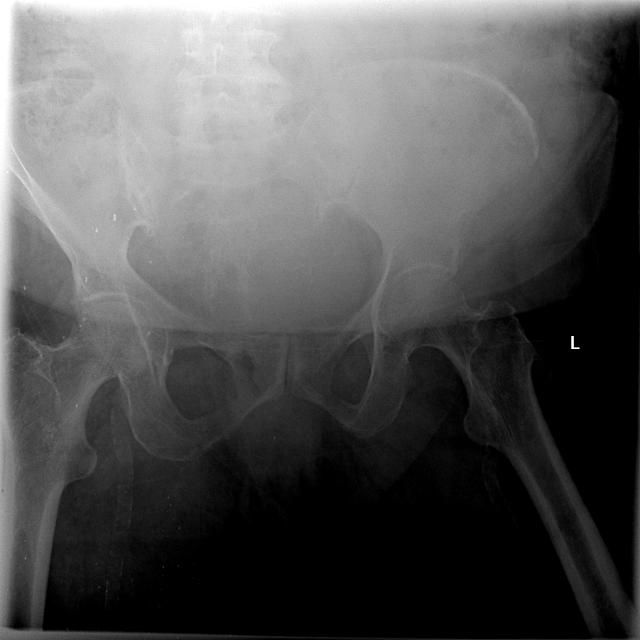normal-left: (388, 269, 605, 564)
normal-right: (0, 300, 153, 630)
